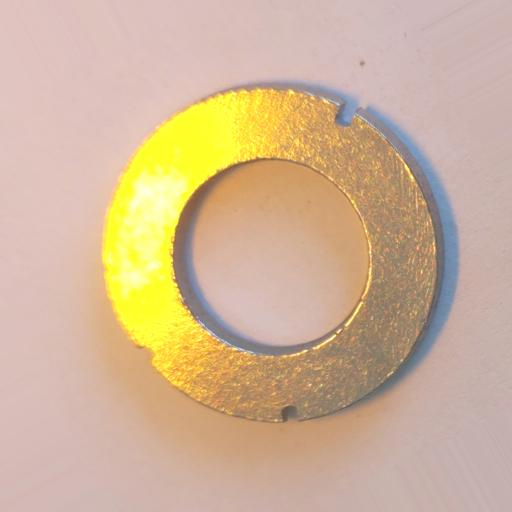burr: (333, 104, 356, 128), (280, 404, 301, 423), (139, 346, 156, 364)
